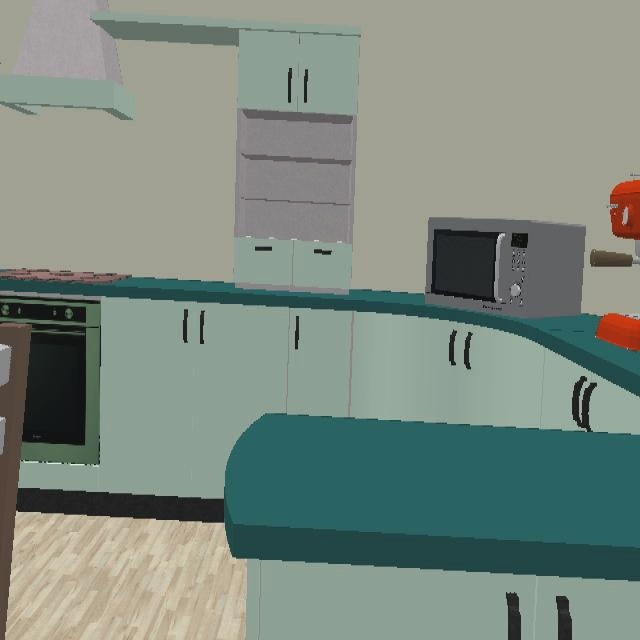cabinet: (17, 299, 640, 500), (91, 12, 360, 292), (244, 560, 640, 640)
chair: (0, 321, 31, 640)
countertop: (0, 277, 640, 399), (224, 413, 640, 583)
microwave: (426, 217, 586, 317)
oven: (0, 296, 101, 465)
stove: (0, 268, 132, 288)
